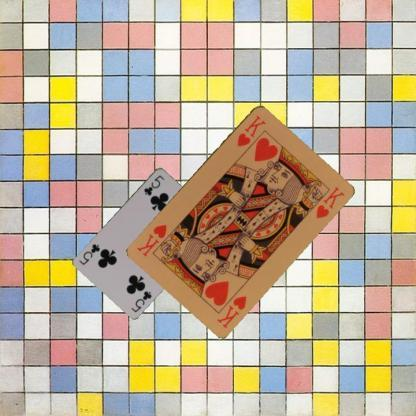5c: (141, 172, 165, 196), (129, 288, 152, 313)
Kh: (214, 292, 248, 330), (234, 112, 268, 148)
